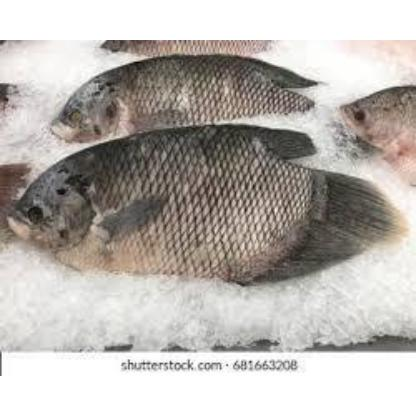gurame: (12, 122, 402, 284), (43, 54, 315, 142), (334, 72, 416, 158), (90, 39, 278, 59)
